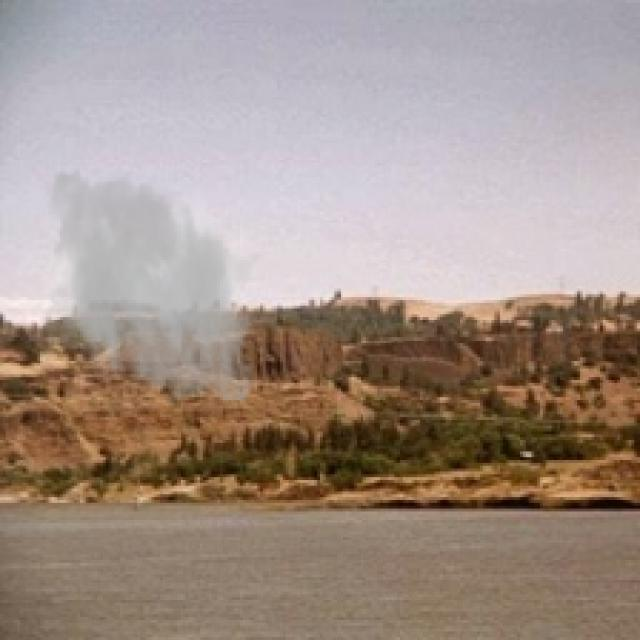smoke: (26, 160, 271, 414)
